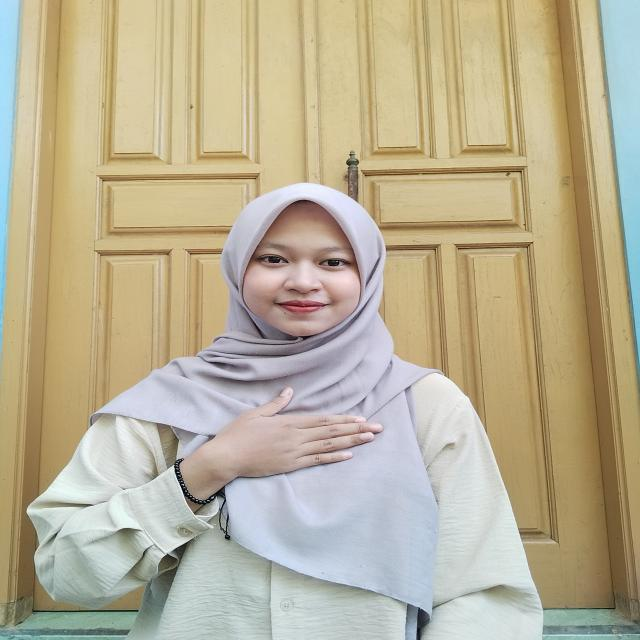tolong: (181, 386, 387, 507)
